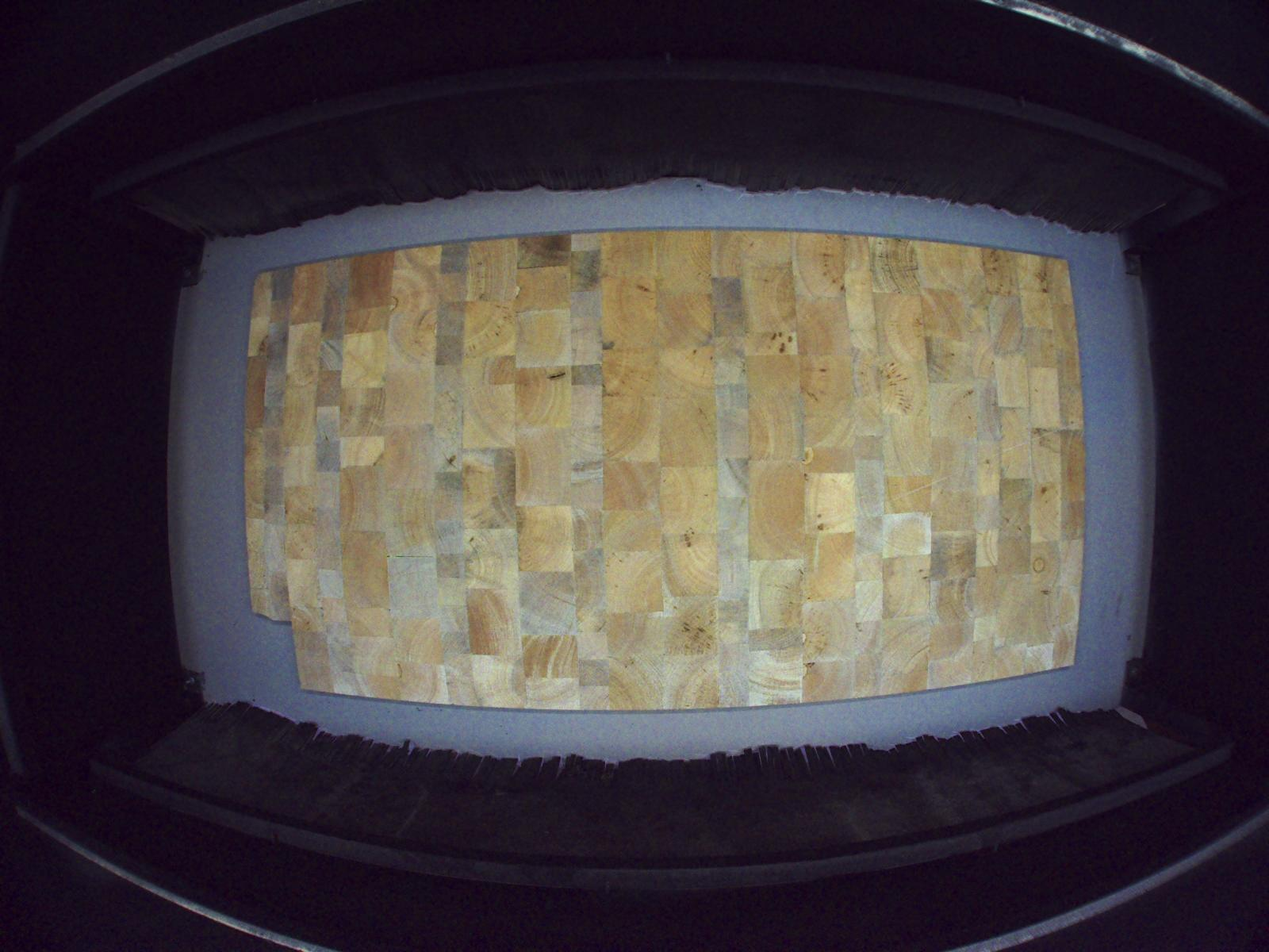sheck_ecuatoriano: (442, 451, 460, 472)
